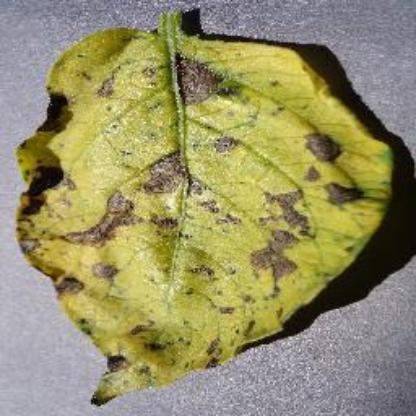Early-Blight: (18, 0, 400, 410)
